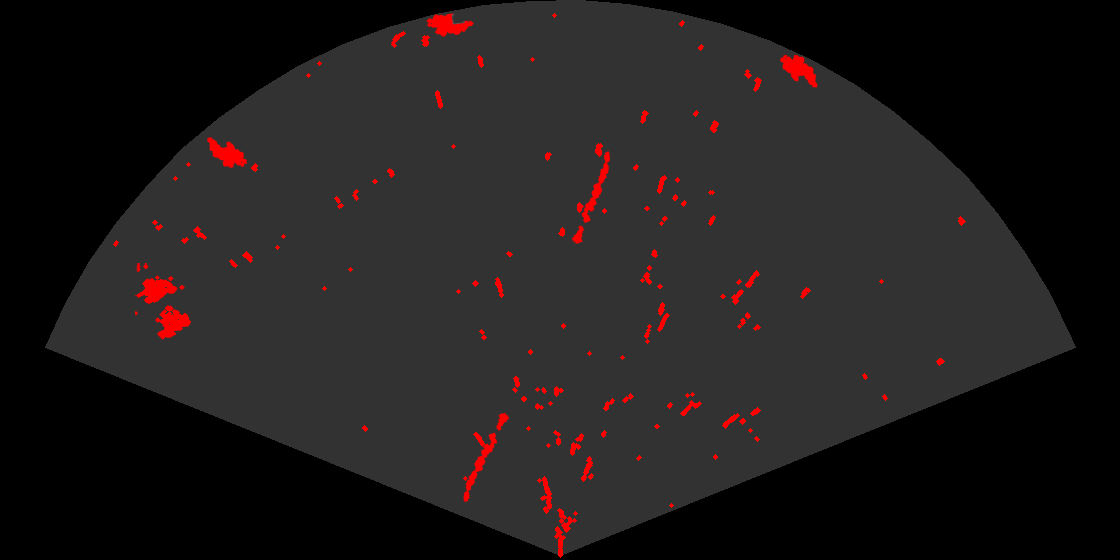AUV: (205, 136, 249, 170), (778, 53, 819, 89), (425, 12, 475, 38)
cage: (135, 263, 193, 341)
chain: (462, 411, 511, 503), (570, 150, 612, 246)
